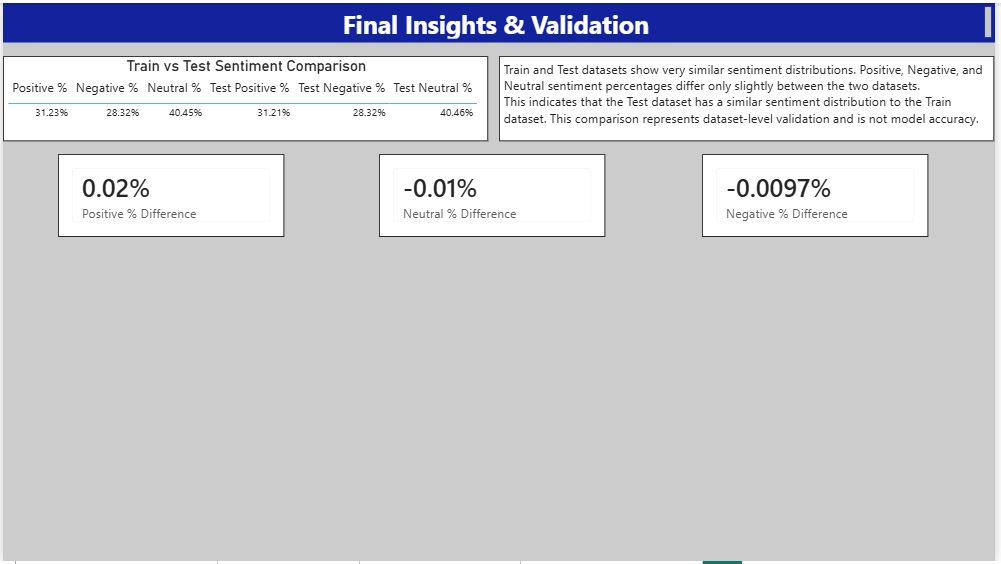

What the dashboard file says about the page in this screenshot:
{"tool":"powerbi","page":{"name":"Final Insights & Validation","canvas":[1280,720],"ordinal":3},"visuals":[{"type":"textbox","box":[0,0,1279.5,50.6],"z":0},{"type":"tableEx","title":"Train vs Test Sentiment Comparison","fields":{"Values":["Train.Positive %","Train.Negative %","Train.Neutral %","Test.Test Positive %","Test.Test Negative %","Test.Test Neutral %"]},"box":[0,68,626,109.9],"z":1},{"type":"cardVisual","fields":{"Data":["Test.Positive % Difference"]},"box":[70.8,195.2,292,107],"z":2},{"type":"cardVisual","fields":{"Data":["Test.Negative % Difference"]},"box":[902.2,195.2,292,107],"z":3},{"type":"cardVisual","fields":{"Data":["Test.Neutral % Difference"]},"box":[485.8,195.2,292,107],"z":4},{"type":"textbox","box":[640.5,68,639,109.9],"z":5}]}

Visuals, with their boxes in screenshot pixels (x1, y1, x2, y2), scaled from the page's 1280x720 canvas onto the 1001x564 screenshot:
textbox: pyautogui.locateOnScreen(0, 0, 1000, 40)
"Train vs Test Sentiment Comparison" tableEx: pyautogui.locateOnScreen(0, 53, 490, 139)
cardVisual - Test.Positive % Difference: pyautogui.locateOnScreen(55, 153, 284, 237)
cardVisual - Test.Negative % Difference: pyautogui.locateOnScreen(706, 153, 934, 237)
cardVisual - Test.Neutral % Difference: pyautogui.locateOnScreen(380, 153, 608, 237)
textbox: pyautogui.locateOnScreen(501, 53, 1000, 139)
